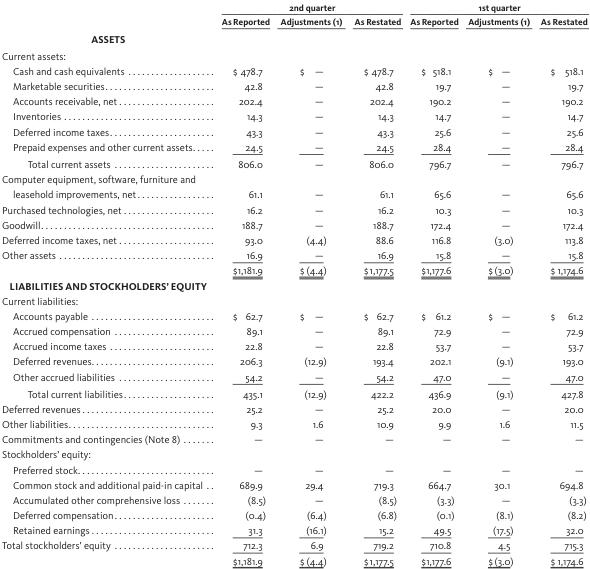table: (1, 1, 586, 566)
table column: (1, 1, 211, 566), (274, 1, 347, 566), (462, 1, 534, 566), (211, 1, 274, 566), (404, 1, 462, 566), (347, 1, 404, 566), (534, 1, 586, 566)
table column header: (1, 1, 586, 29)
table projected row header: (1, 29, 586, 46), (1, 46, 586, 62), (1, 277, 586, 292), (1, 292, 586, 307), (1, 446, 586, 461)
table row: (1, 170, 586, 201), (1, 29, 586, 46), (1, 13, 586, 29), (1, 46, 586, 62), (1, 77, 586, 93), (1, 138, 586, 154), (1, 154, 586, 170), (1, 231, 586, 247), (1, 322, 586, 338), (1, 368, 586, 384), (1, 384, 586, 400), (1, 415, 586, 431), (1, 506, 586, 522), (1, 62, 586, 77), (1, 93, 586, 108), (1, 108, 586, 123), (1, 123, 586, 138), (1, 201, 586, 216), (1, 216, 586, 231), (1, 247, 586, 262), (1, 262, 586, 277), (1, 277, 586, 292), (1, 292, 586, 307), (1, 307, 586, 322), (1, 338, 586, 353), (1, 353, 586, 368), (1, 400, 586, 415), (1, 431, 586, 446), (1, 446, 586, 461), (1, 461, 586, 476), (1, 476, 586, 491), (1, 491, 586, 506), (1, 522, 586, 537), (1, 537, 586, 552), (1, 552, 586, 566), (1, 1, 586, 13)
table spanning cell: (211, 1, 404, 13), (404, 1, 586, 13)
